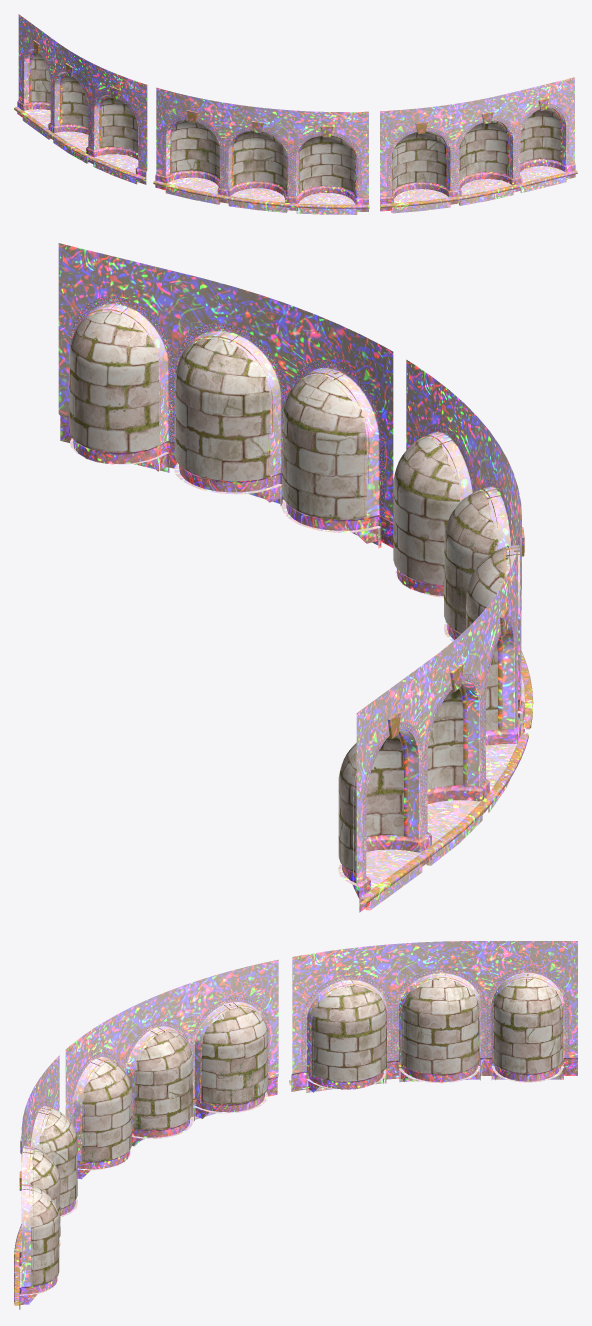
The model's file is alcove_corner_large_SM.fbx.
3 views of the same model, one above another, from view 1: azimuth 30°, elevation 25°; view 2: azimuth 150°, elevation 25°; view 3: azimuth 270°, elevation 25° (orthographic). The views are drawn at different scales.
Parts seen in each view (by area): view 1: alcove_corner_large_SM_LOD0; view 2: alcove_corner_large_SM_LOD0; view 3: alcove_corner_large_SM_LOD0.
Part boxes in pixels (x1=…): alcove_corner_large_SM_LOD0: x1=14, y1=14, x2=577, y2=214; alcove_corner_large_SM_LOD0: x1=58, y1=243, x2=533, y2=912; alcove_corner_large_SM_LOD0: x1=14, y1=941, x2=577, y2=1309.
Size of the model in its own units: 2046 by 2046 by 559.
5 materials, 5 textured.
